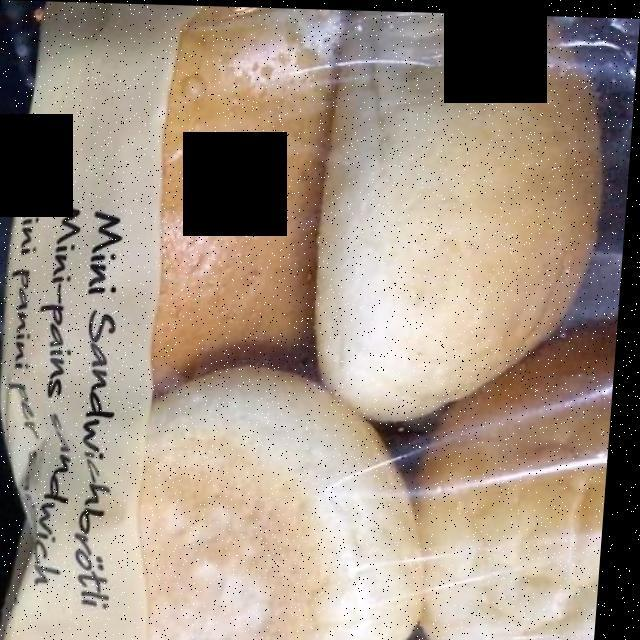bread: (142, 1, 616, 640)
